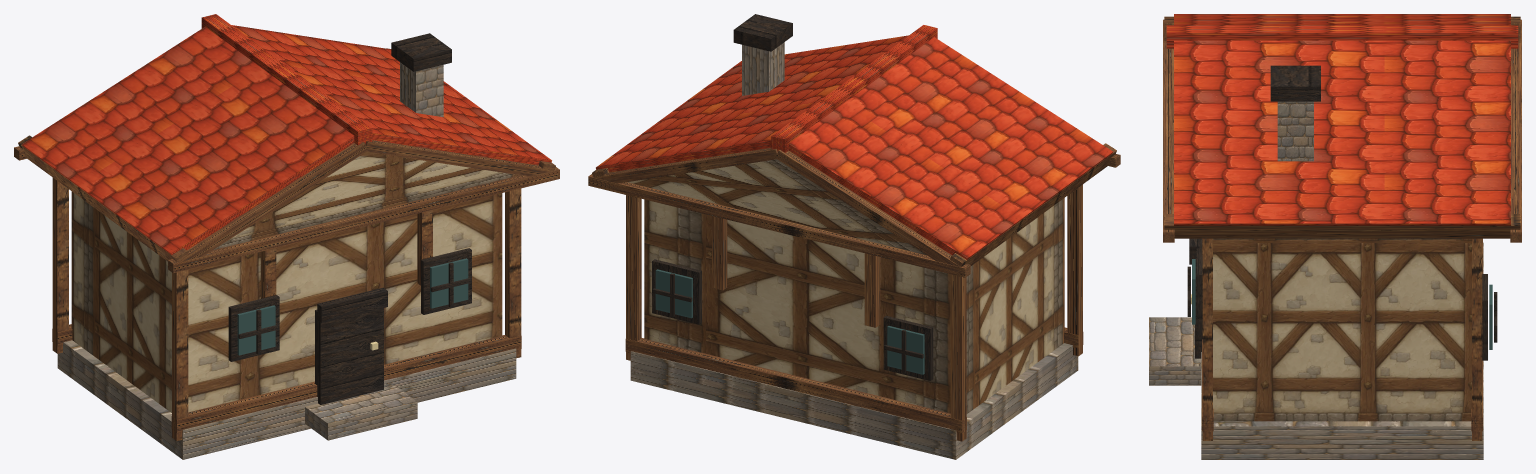
File: town-shopfront.glb
3 renders of one model, left to right at view 1: azimuth 30°, elevation 25°; view 2: azimuth 150°, elevation 25°; view 3: azimuth 270°, elevation 25°, orthographic. The views are drawn at different scales.
Visible parts, largest first — view 1: town_shopfront_shell; view 2: town_shopfront_shell; view 3: town_shopfront_shell.
Part boxes in pixels (x1,y1,x2,y2): town_shopfront_shell: [14, 14, 559, 459]; town_shopfront_shell: [588, 14, 1120, 459]; town_shopfront_shell: [1149, 14, 1521, 459].
Size of the model in its own units: 8.64 by 6.72 by 6.4.
Materials: 7 (5 with a texture image).
